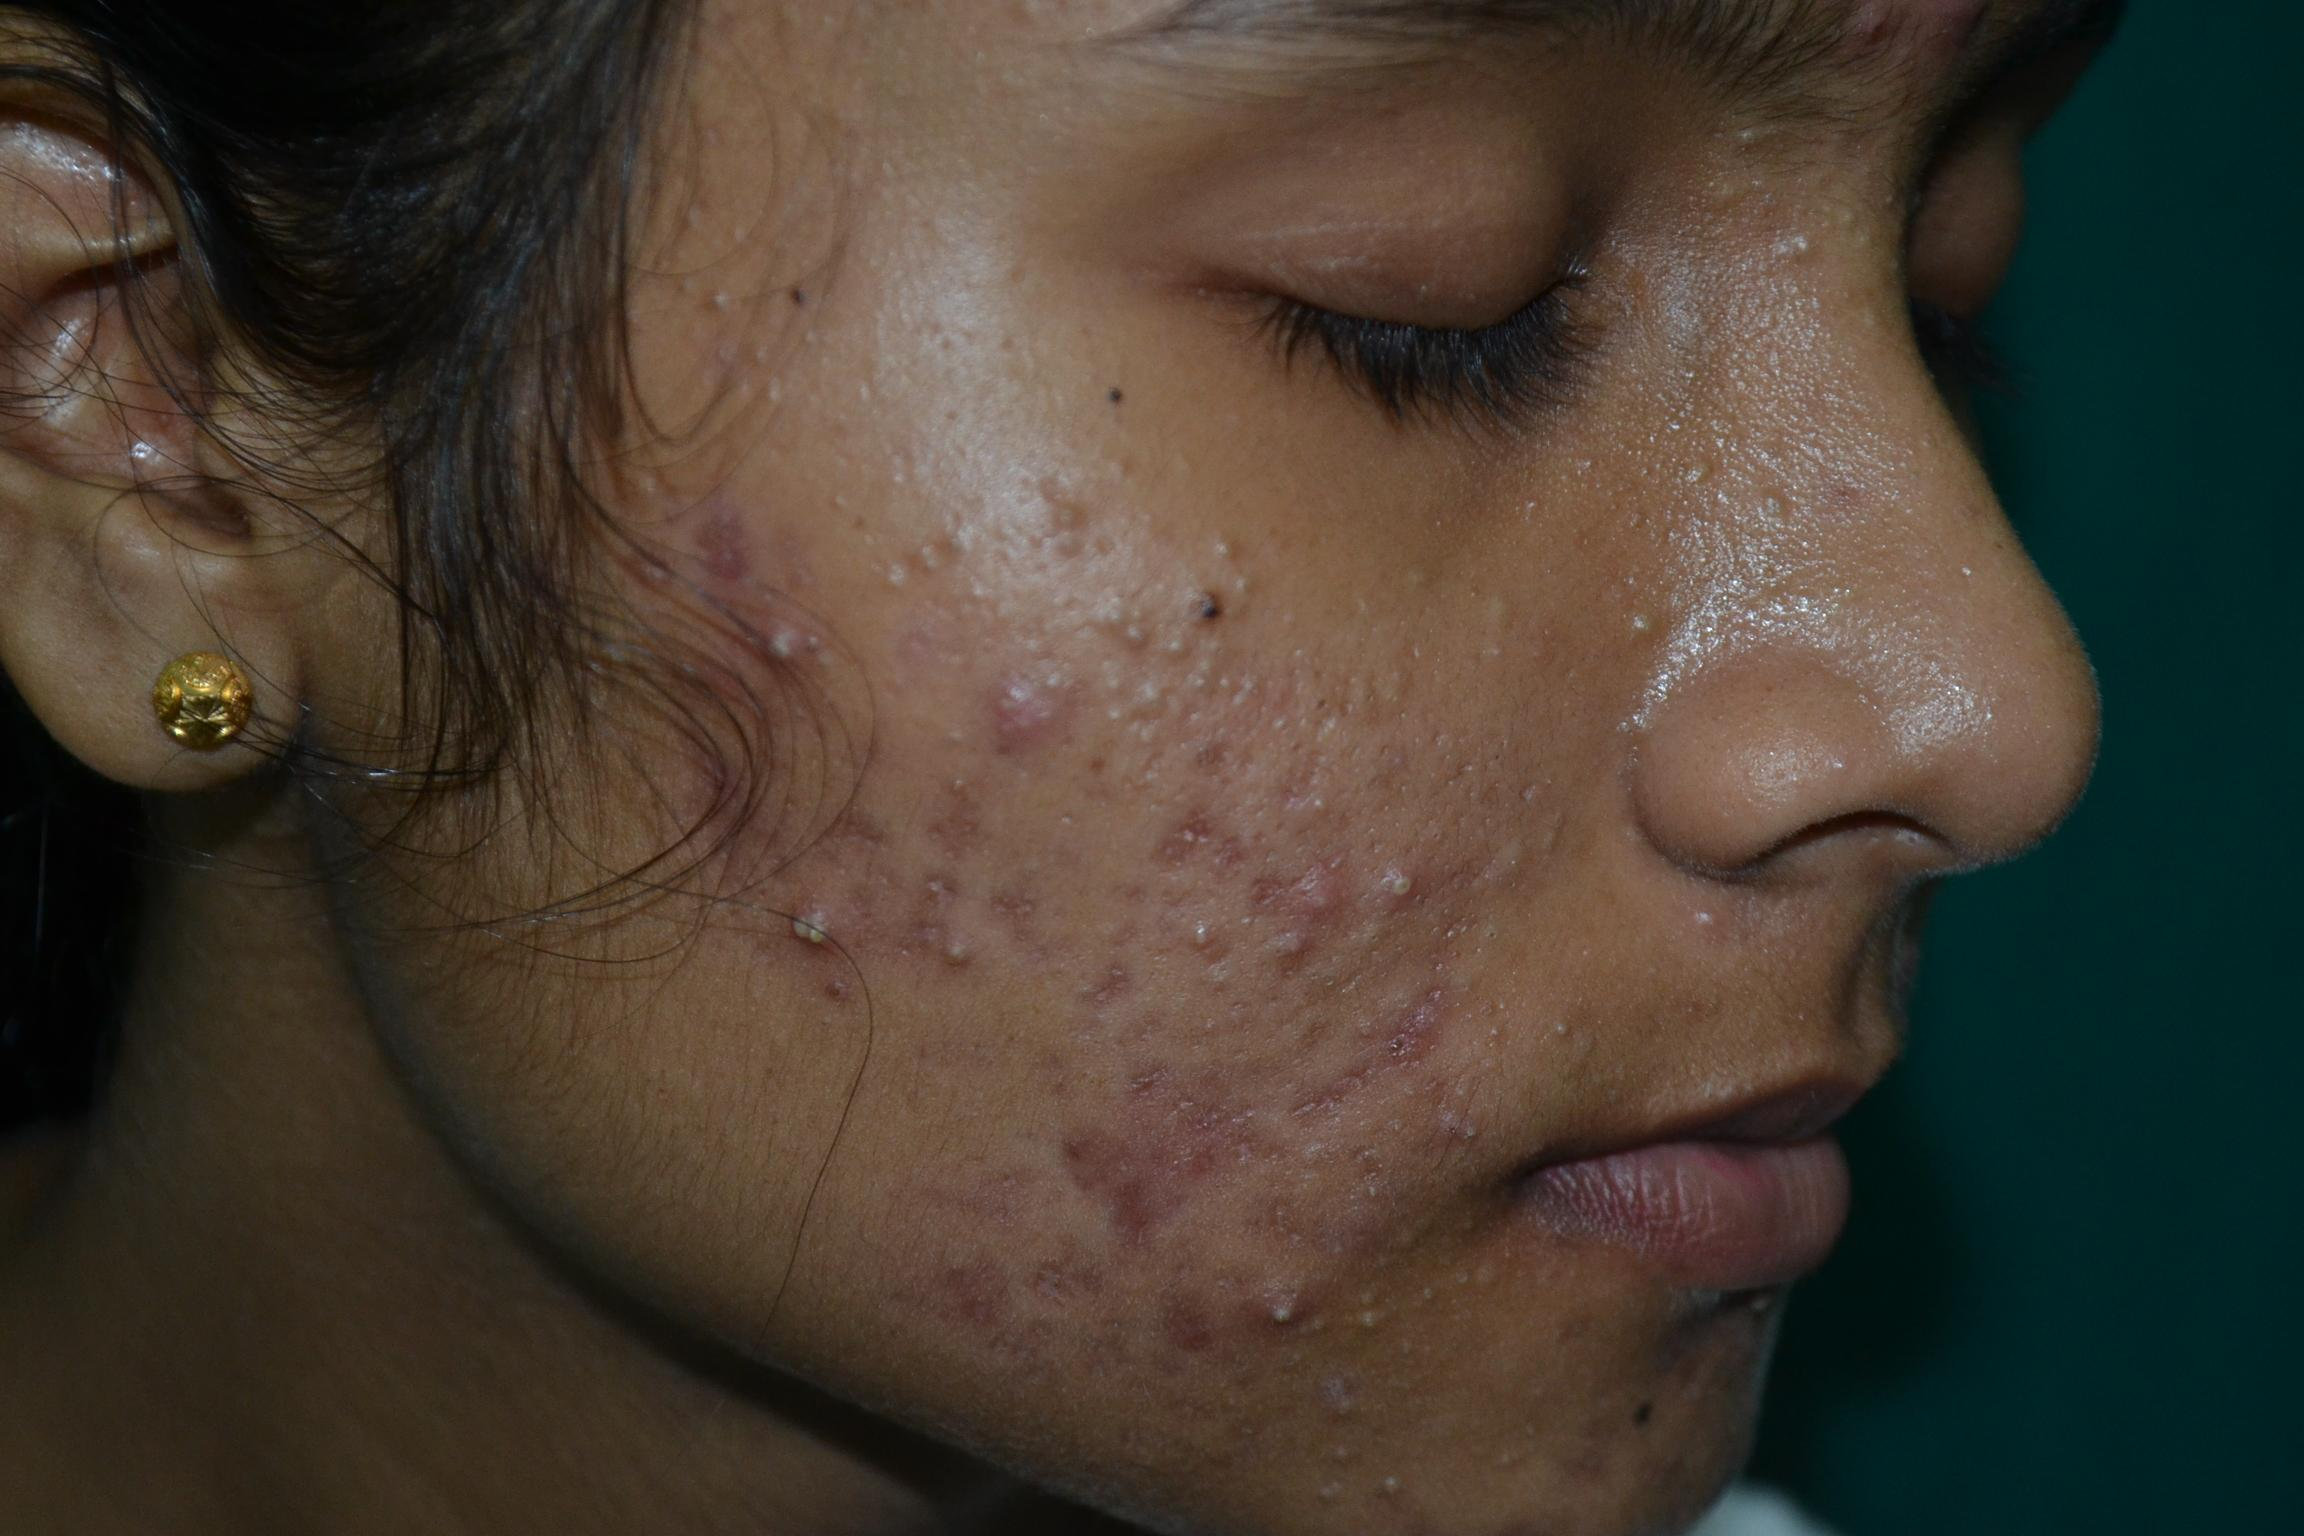acne marks: (807, 451, 1553, 1217)
